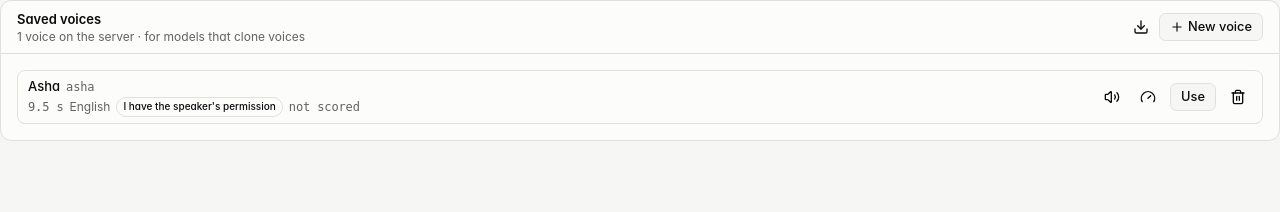
Scenario: VoiceLibrary › lists voices, uses one and deletes one after a confirmation
This screenshot has width=1280, height=212.
Check: the text "I have the speaker's permission" is shown, box [116,96,283,116]
Check: the text with test id "voice-score-asha" reads "not scored", box [289,100,360,114]
Click the button with test id "use-voice-asha" at (1193, 97), box [1170,83,1216,111]
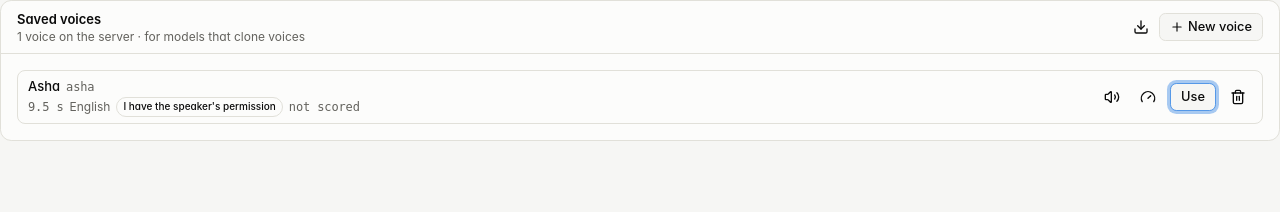
Check: the text "asha" is shown, box [66,79,94,95]
Click the button named "Score Asha with pocket-tts-en-llamacpp" at (1148, 97), box [1134,83,1162,111]
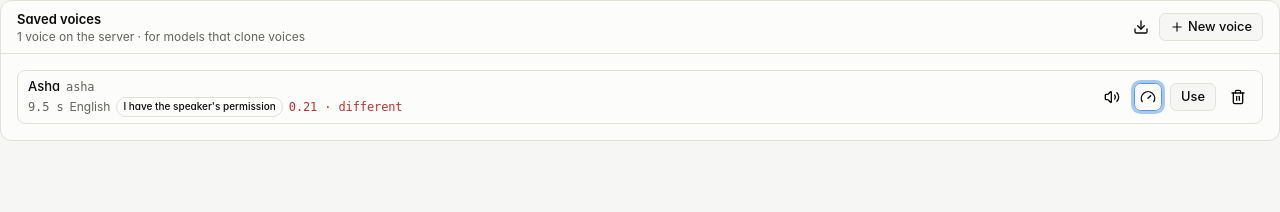
Check: the text with test id "voice-score-asha" reads "0.21 · different", box [289,100,402,114]
Click the button named "Delete Asha" at (1238, 97), box [1224,83,1252,111]
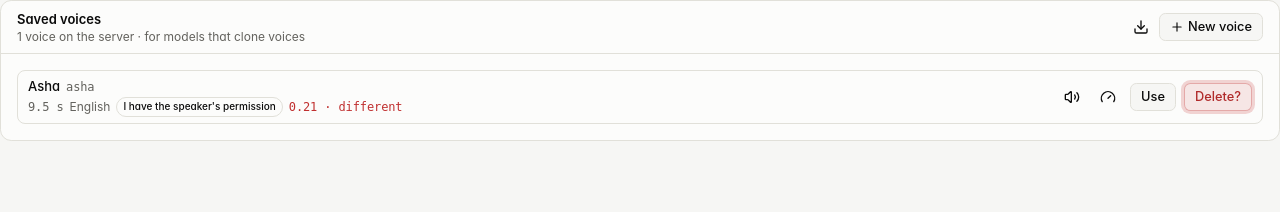
Click the button with aria-label "Confirm deleting Asha" at (1218, 97), box [1184,83,1252,111]
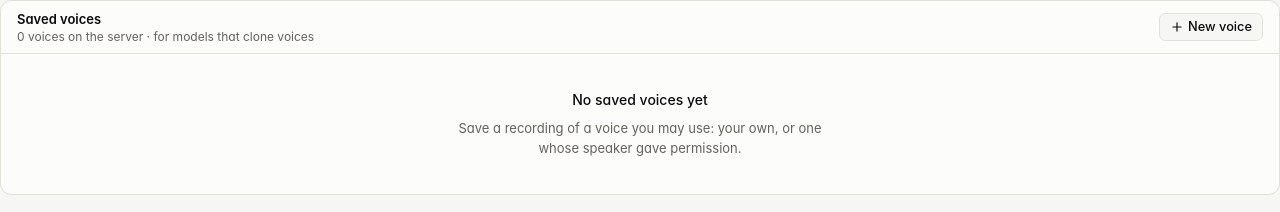
Check: the list item with test id "voice-asha" is gone
